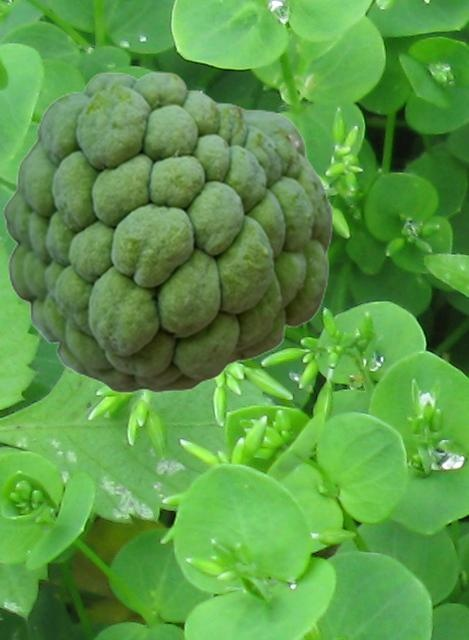atis: (2, 71, 332, 392)
